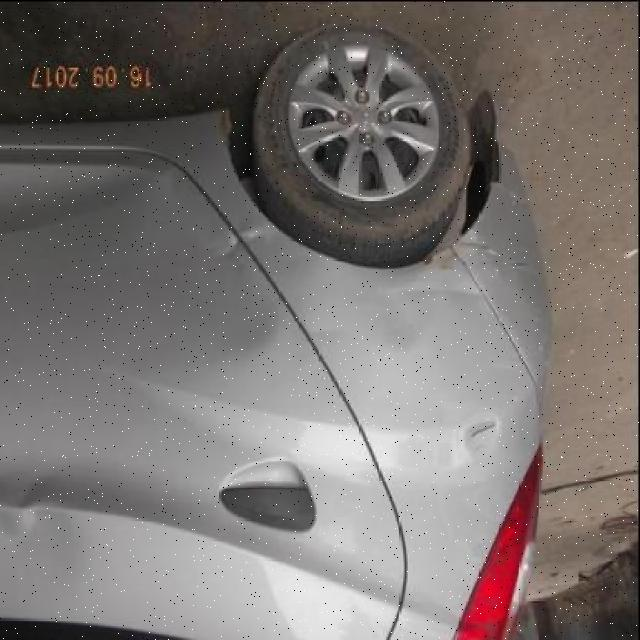damage: (2, 481, 66, 538), (421, 230, 498, 271), (463, 412, 503, 459), (222, 220, 265, 261), (472, 422, 498, 437)
